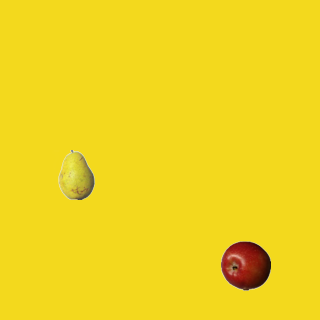Apple Braeburn: (220, 240, 270, 290)
Pear Monster: (51, 149, 101, 199)
